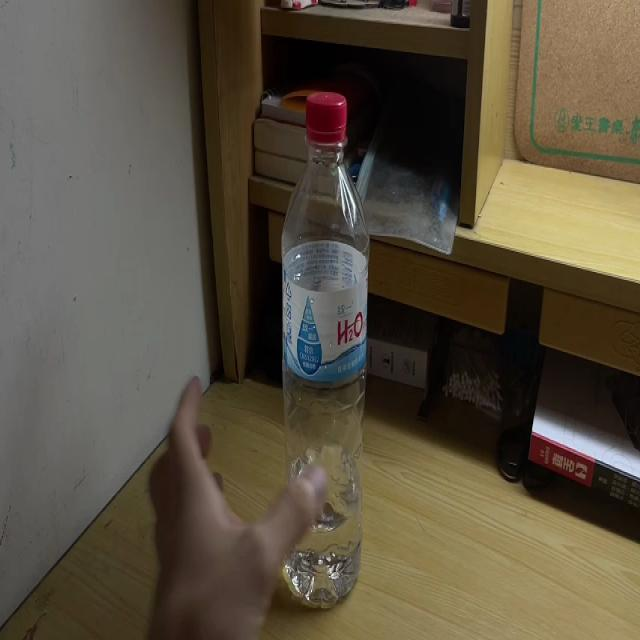Water: (283, 91, 368, 614)
